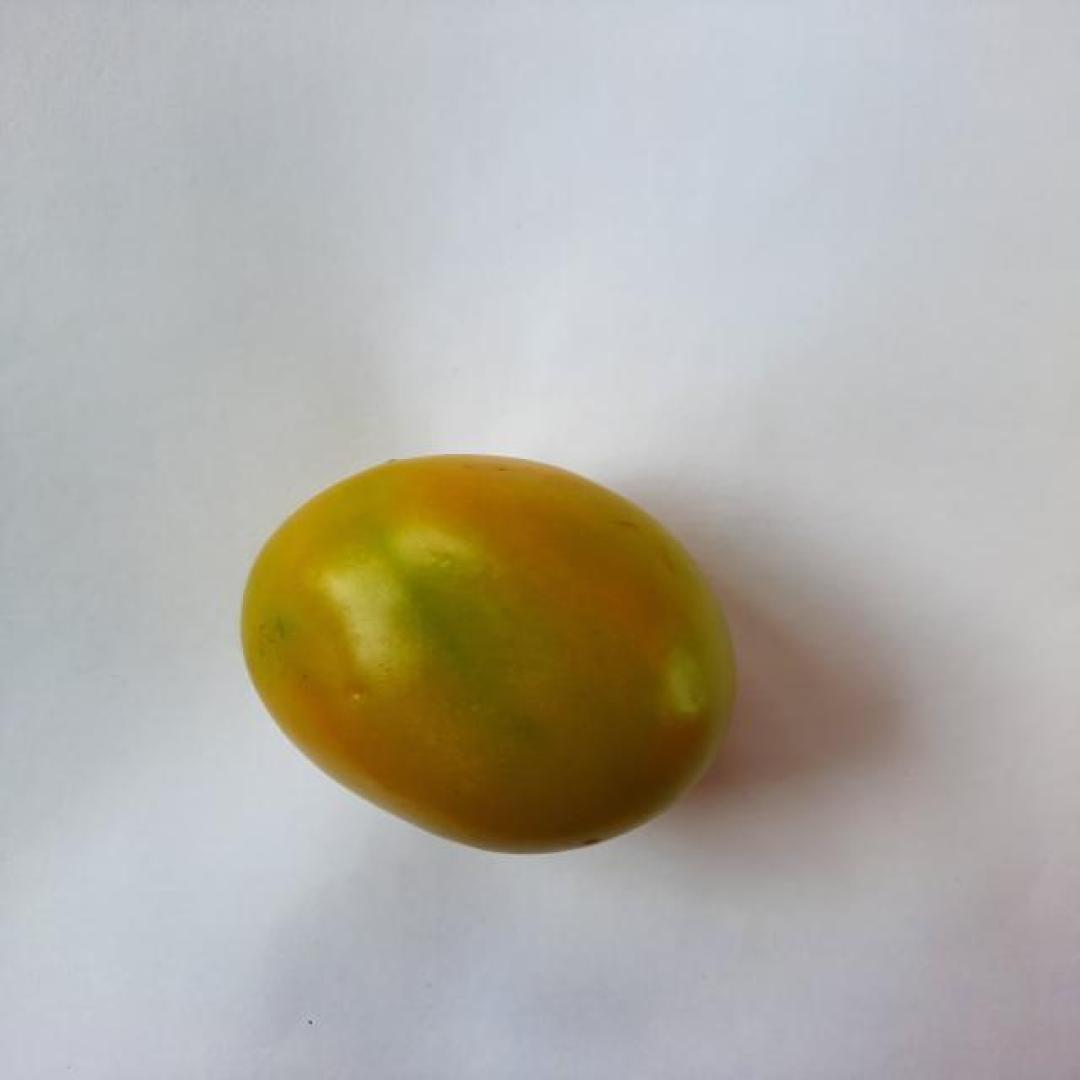setengah_matang: (233, 447, 742, 857)
